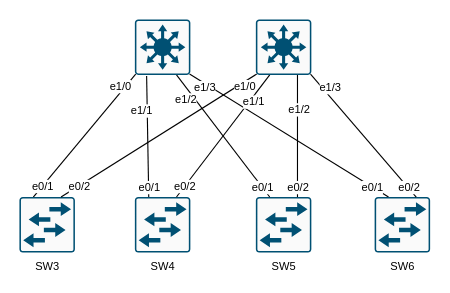
The diagram is 450 pixels wide and 293 high, and some of its shapes have lost their labels. Here are the shapes that lost their labels. From the top down, the centre of each, then its label:
(162,46): SW1
(283,46): SW2
